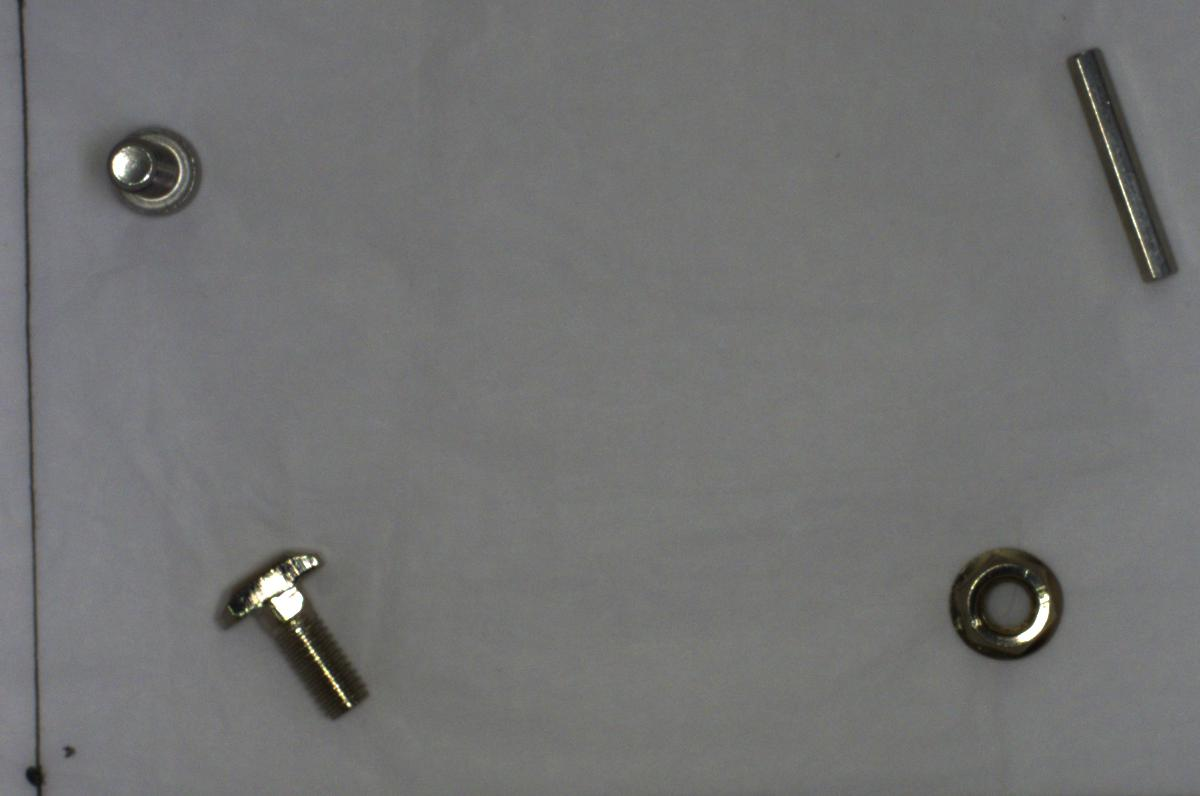Double hexagonal column: (1059, 39, 1185, 292)
Flange nut: (935, 540, 1070, 663)
Hexagon screw: (94, 116, 207, 218)
T-shaped screw: (207, 539, 377, 727)
